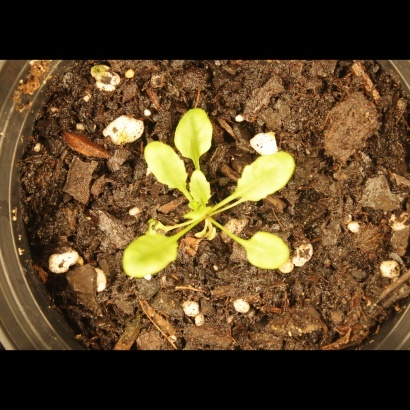leaf: (221, 150, 308, 208), (115, 231, 186, 282), (136, 137, 189, 197), (237, 227, 293, 274), (169, 107, 218, 154), (188, 164, 217, 208)
